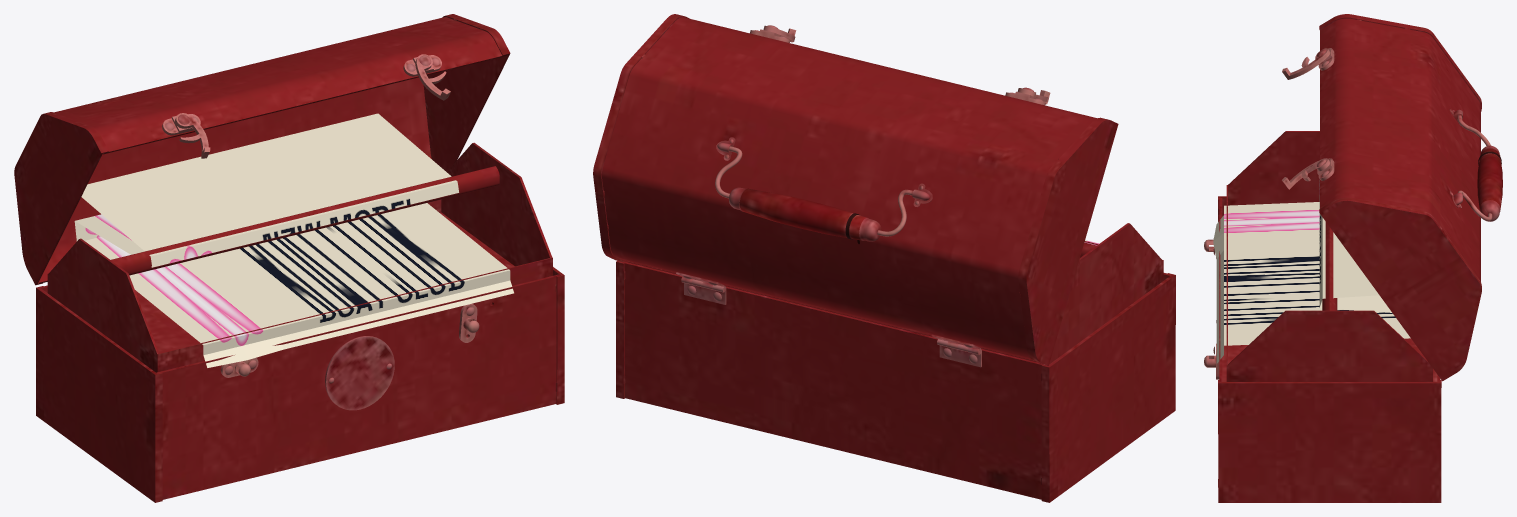
File: nyb_stuart_toolbox.glb
The picture shows the model from 3 angles, left to right: view 1: azimuth 30°, elevation 25°; view 2: azimuth 150°, elevation 25°; view 3: azimuth 270°, elevation 25°; orthographic projection. The views are drawn at different scales.
Parts seen in each view (by area): view 1: metal_toolbox, stk_lbl_117322bef1.png; view 2: metal_toolbox; view 3: metal_toolbox, stk_lbl_117322bef1.png.
Part boxes in pixels (x1,y1,x2,y2): metal_toolbox: [14, 14, 564, 502]; stk_lbl_117322bef1.png: [74, 113, 513, 367]; metal_toolbox: [593, 14, 1175, 502]; metal_toolbox: [1204, 14, 1502, 502]; stk_lbl_117322bef1.png: [1213, 179, 1410, 363].
Size of the model in its own units: 0.4 by 0.3047 by 0.2705.
Materials: 2 (2 with a texture image).
